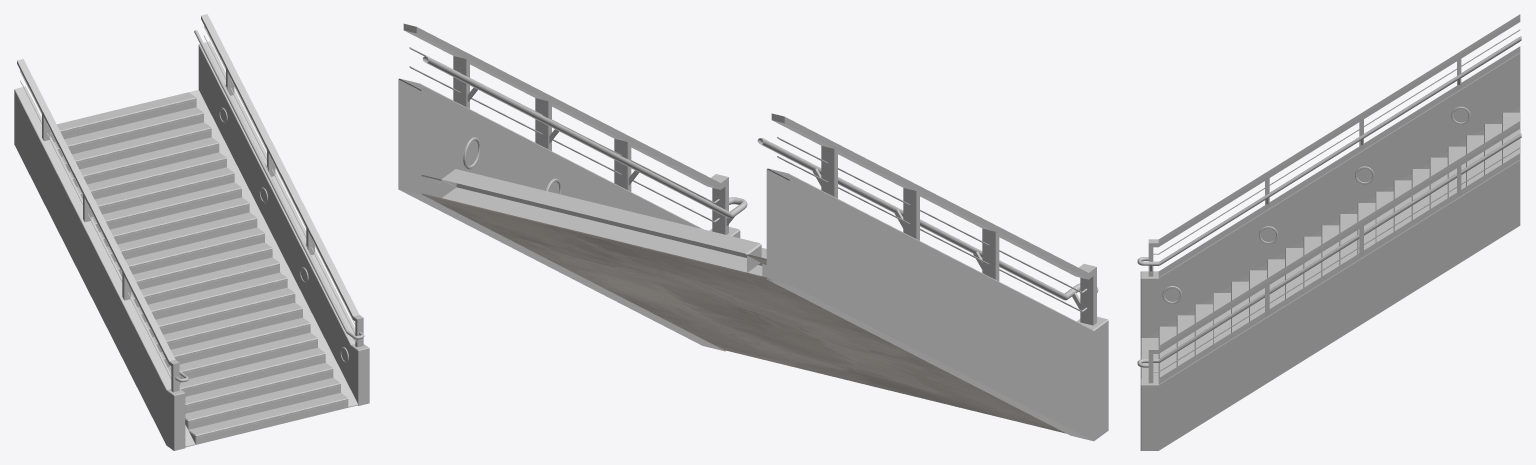
Rendered from MESH_StairsSingle_First.fbx.
3 renders of one model, left to right at view 1: azimuth 30°, elevation 25°; view 2: azimuth 150°, elevation 25°; view 3: azimuth 270°, elevation 25°, orthographic. The views are drawn at different scales.
Parts seen in each view (by area): view 1: StairsSingle.001, ConcreteBaseL.001, ConcreteBaseR.001, HandleR.001, HandleL.001, LampsR.001; view 2: ConcreteBaseL.001, StairsSingle.001, ConcreteBaseR.001, HandleL.001, HandleR.001; view 3: ConcreteBaseR.001, ConcreteBaseL.001, StairsSingle.001, HandleL.001, HandleR.001, LampsL.001.
Part boxes in pixels (bbox=[...]): StairsSingle.001: bbox=[50, 90, 358, 447]; ConcreteBaseL.001: bbox=[14, 86, 185, 450]; ConcreteBaseR.001: bbox=[198, 41, 369, 405]; HandleR.001: bbox=[194, 14, 364, 347]; HandleL.001: bbox=[17, 59, 188, 392]; LampsR.001: bbox=[219, 107, 348, 362]; ConcreteBaseL.001: bbox=[766, 168, 1108, 441]; StairsSingle.001: bbox=[421, 169, 1066, 433]; ConcreteBaseR.001: bbox=[398, 78, 740, 351]; HandleL.001: bbox=[757, 113, 1098, 325]; HandleR.001: bbox=[403, 23, 747, 234]; ConcreteBaseR.001: bbox=[1140, 153, 1520, 450]; ConcreteBaseL.001: bbox=[1140, 46, 1520, 338]; StairsSingle.001: bbox=[1140, 107, 1520, 378]; HandleL.001: bbox=[1137, 14, 1521, 276]; HandleR.001: bbox=[1137, 121, 1521, 383]; LampsL.001: bbox=[1162, 106, 1470, 303].
Size of the model in its own units: 425 by 567 by 607.
